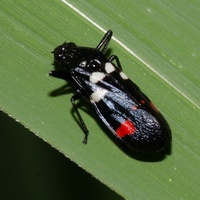insect: (49, 30, 170, 152)
